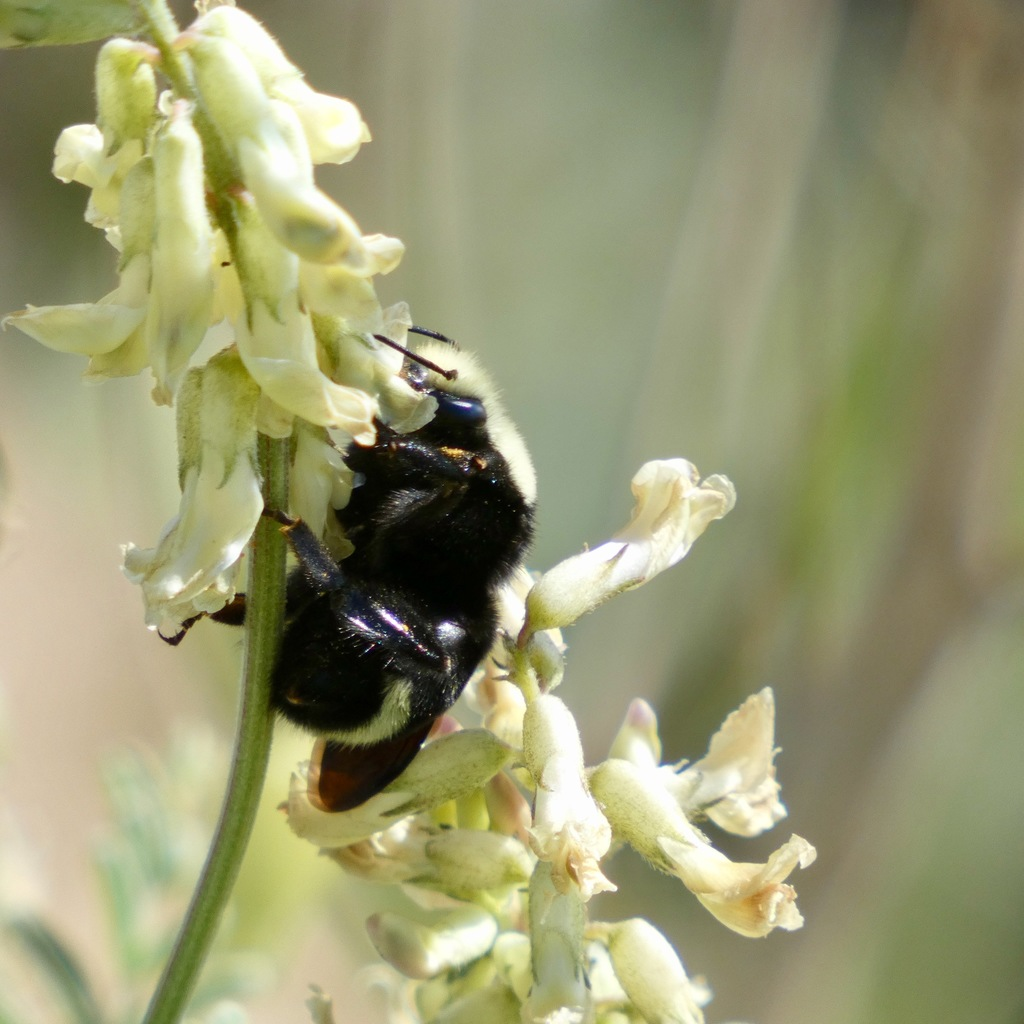bumblebee: (158, 323, 540, 814)
